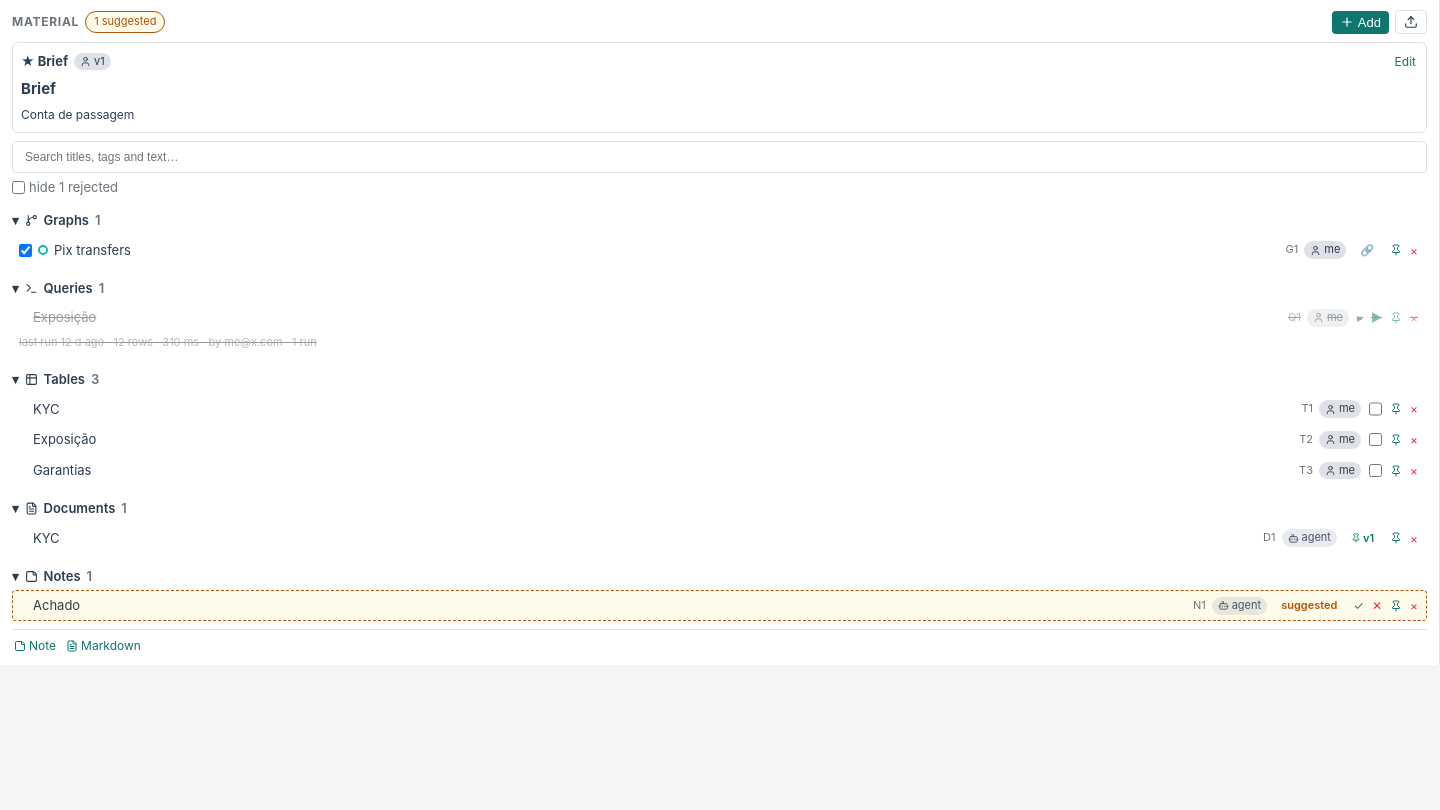
Test: CaseItemsPanel › search reaches the text of the files with a snippet, says when nothing matches, and hides rejected items
Type "4471" into the field with test id "items-search".
click(720, 157); type("4471")  # box [12, 141, 1427, 173]
Wait 350 ms
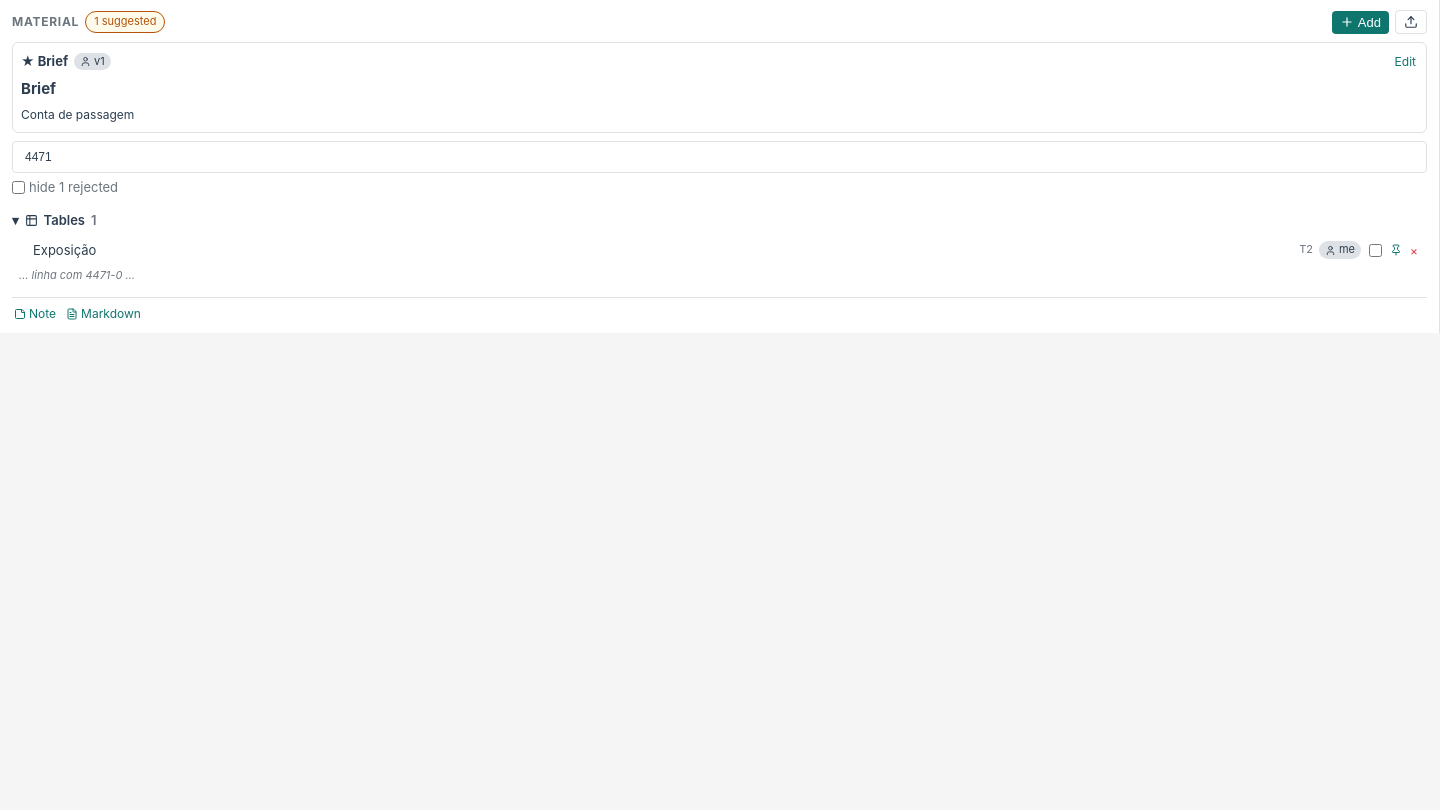
Expected: the button with test id "item-t2" is shown, [12, 235, 1427, 289]
Expected: the text with test id "item-snippet-t2" shows "4471-0", [19, 268, 135, 282]
Replace the text in the field with test id "items-search" with "zzzz" at (720, 157), box [12, 141, 1427, 173]
Wait 350 ms
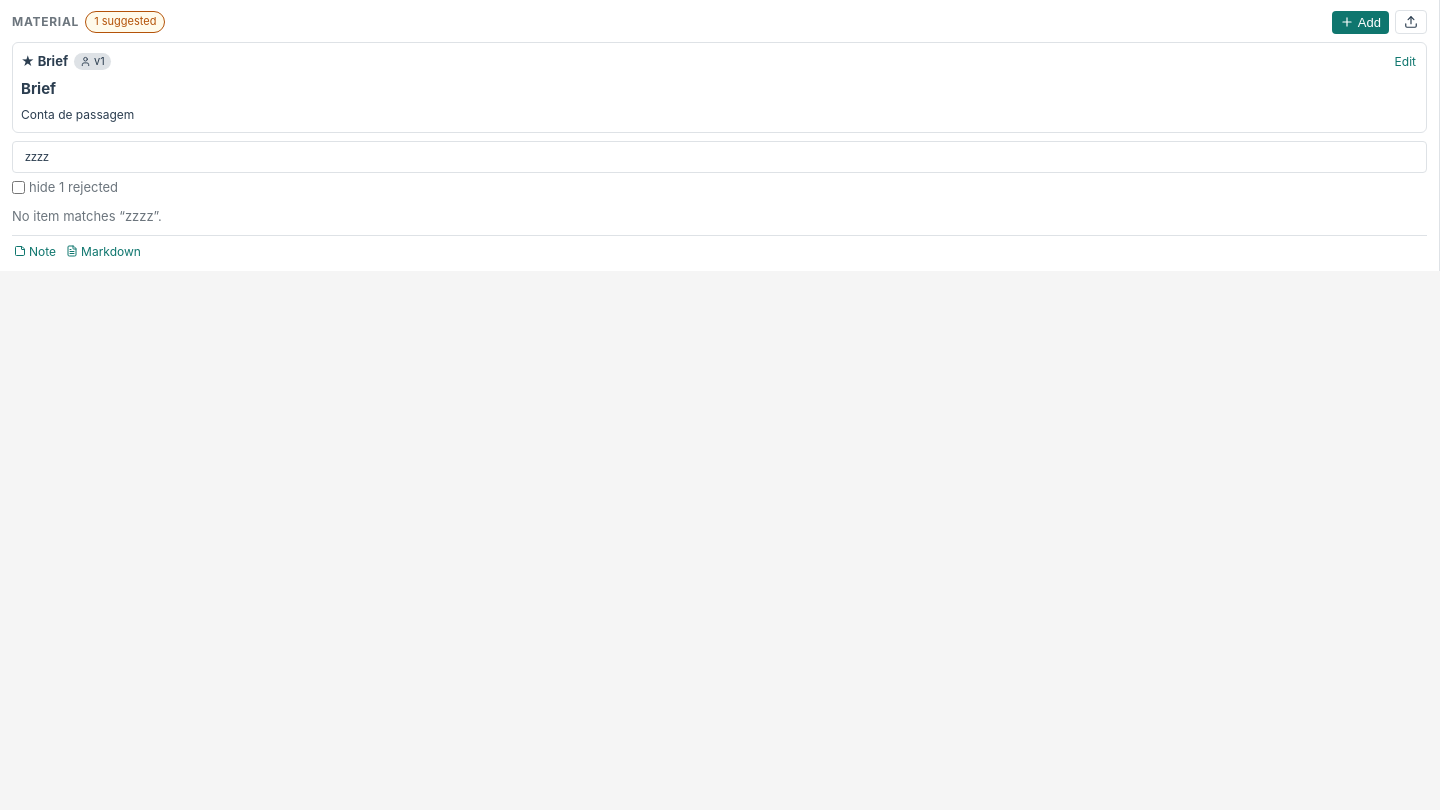
Expected: the text "No item matches “zzzz”." is shown, [12, 208, 162, 224]
Clear the field with test id "items-search" at (720, 157), box [12, 141, 1427, 173]
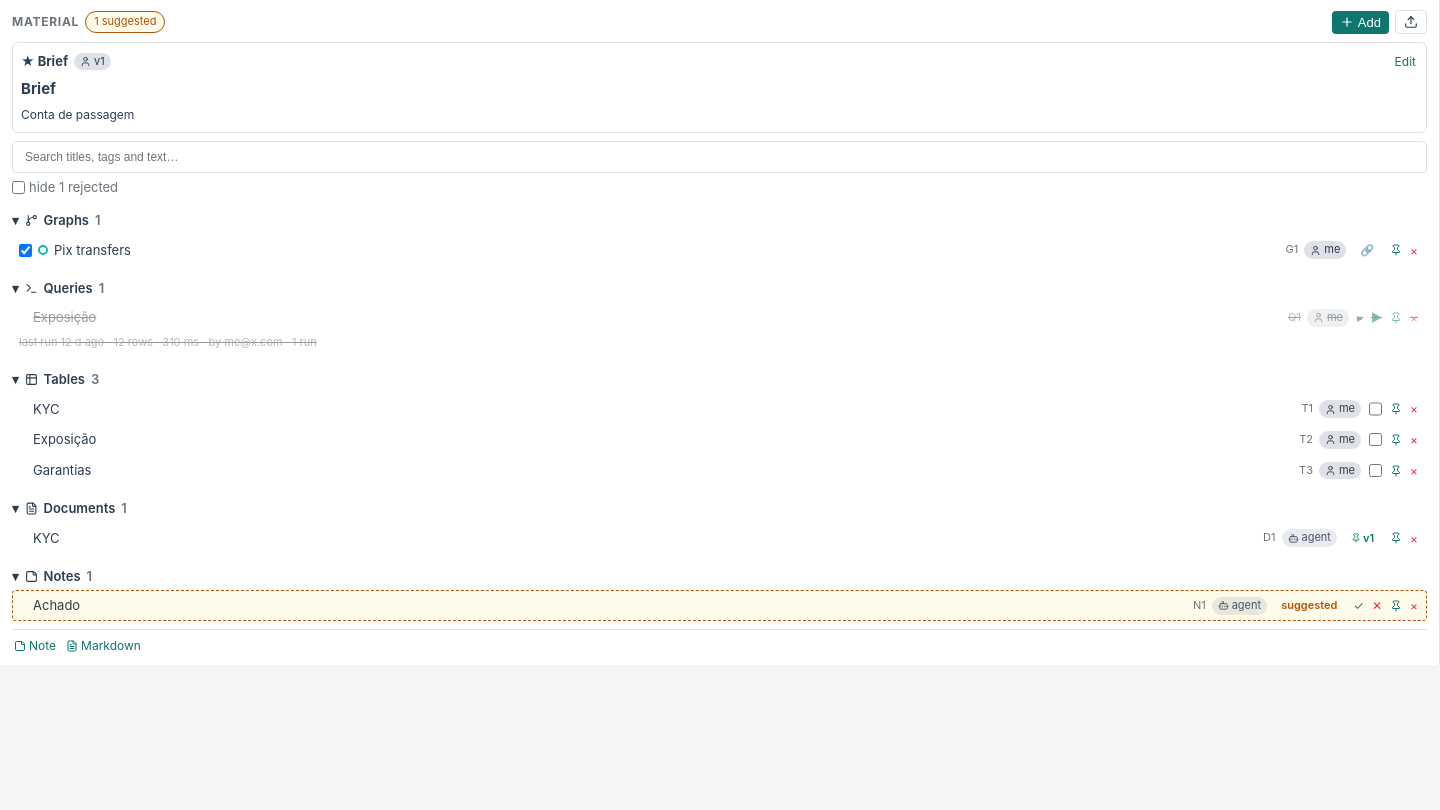
Expected: the button with test id "item-q1" is shown, [12, 302, 1427, 357]
Click the checkbox with test id "items-hide-rejected".
click(18, 188)  # box [12, 181, 25, 194]
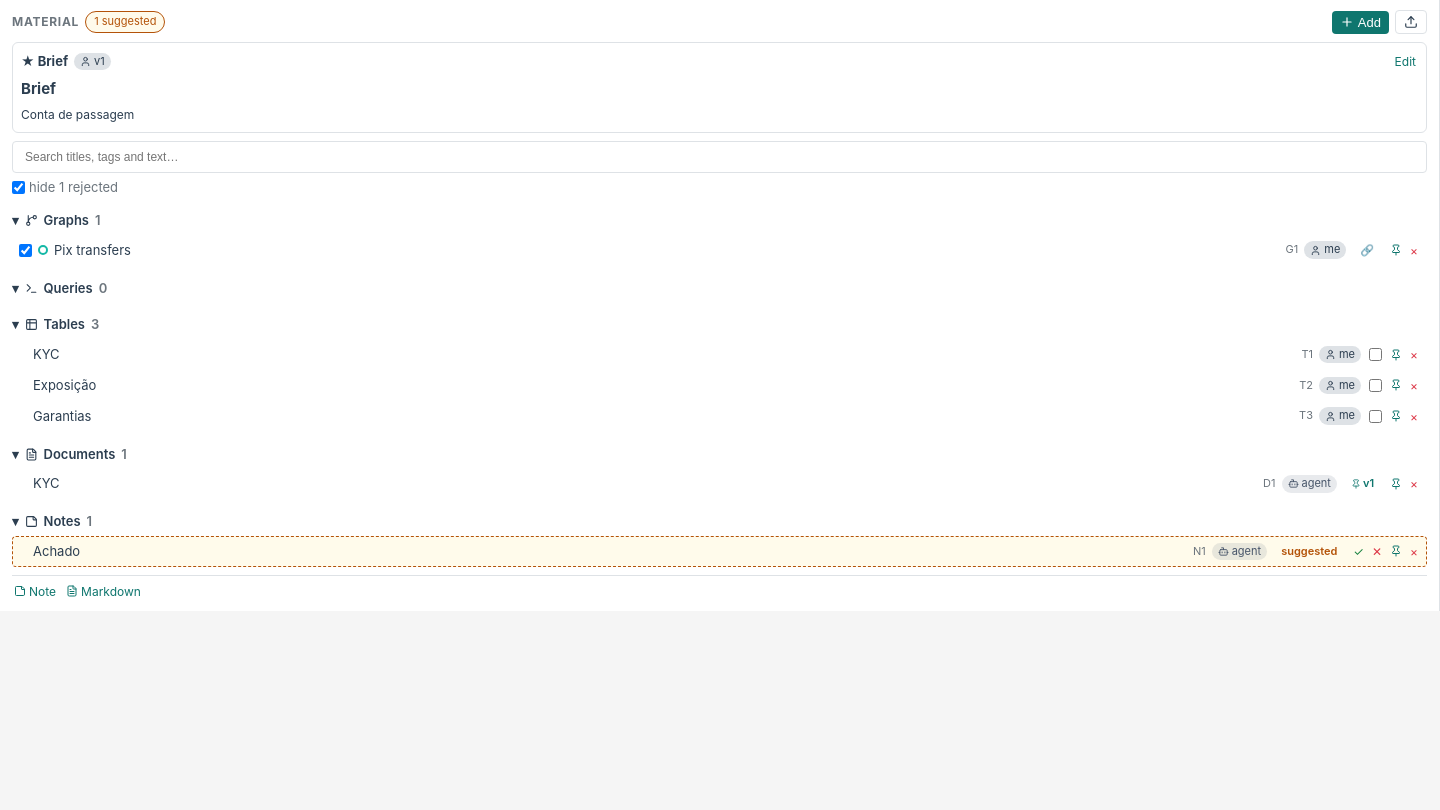
Expected: the button with test id "item-q1" is gone
